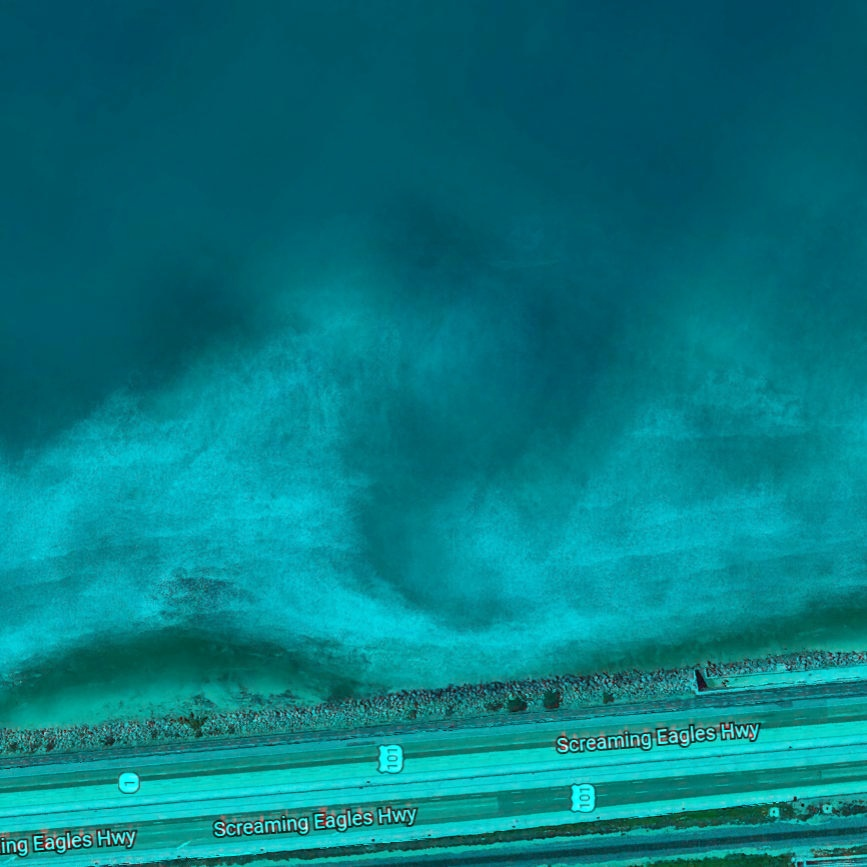rip_current: (288, 241, 626, 610)
